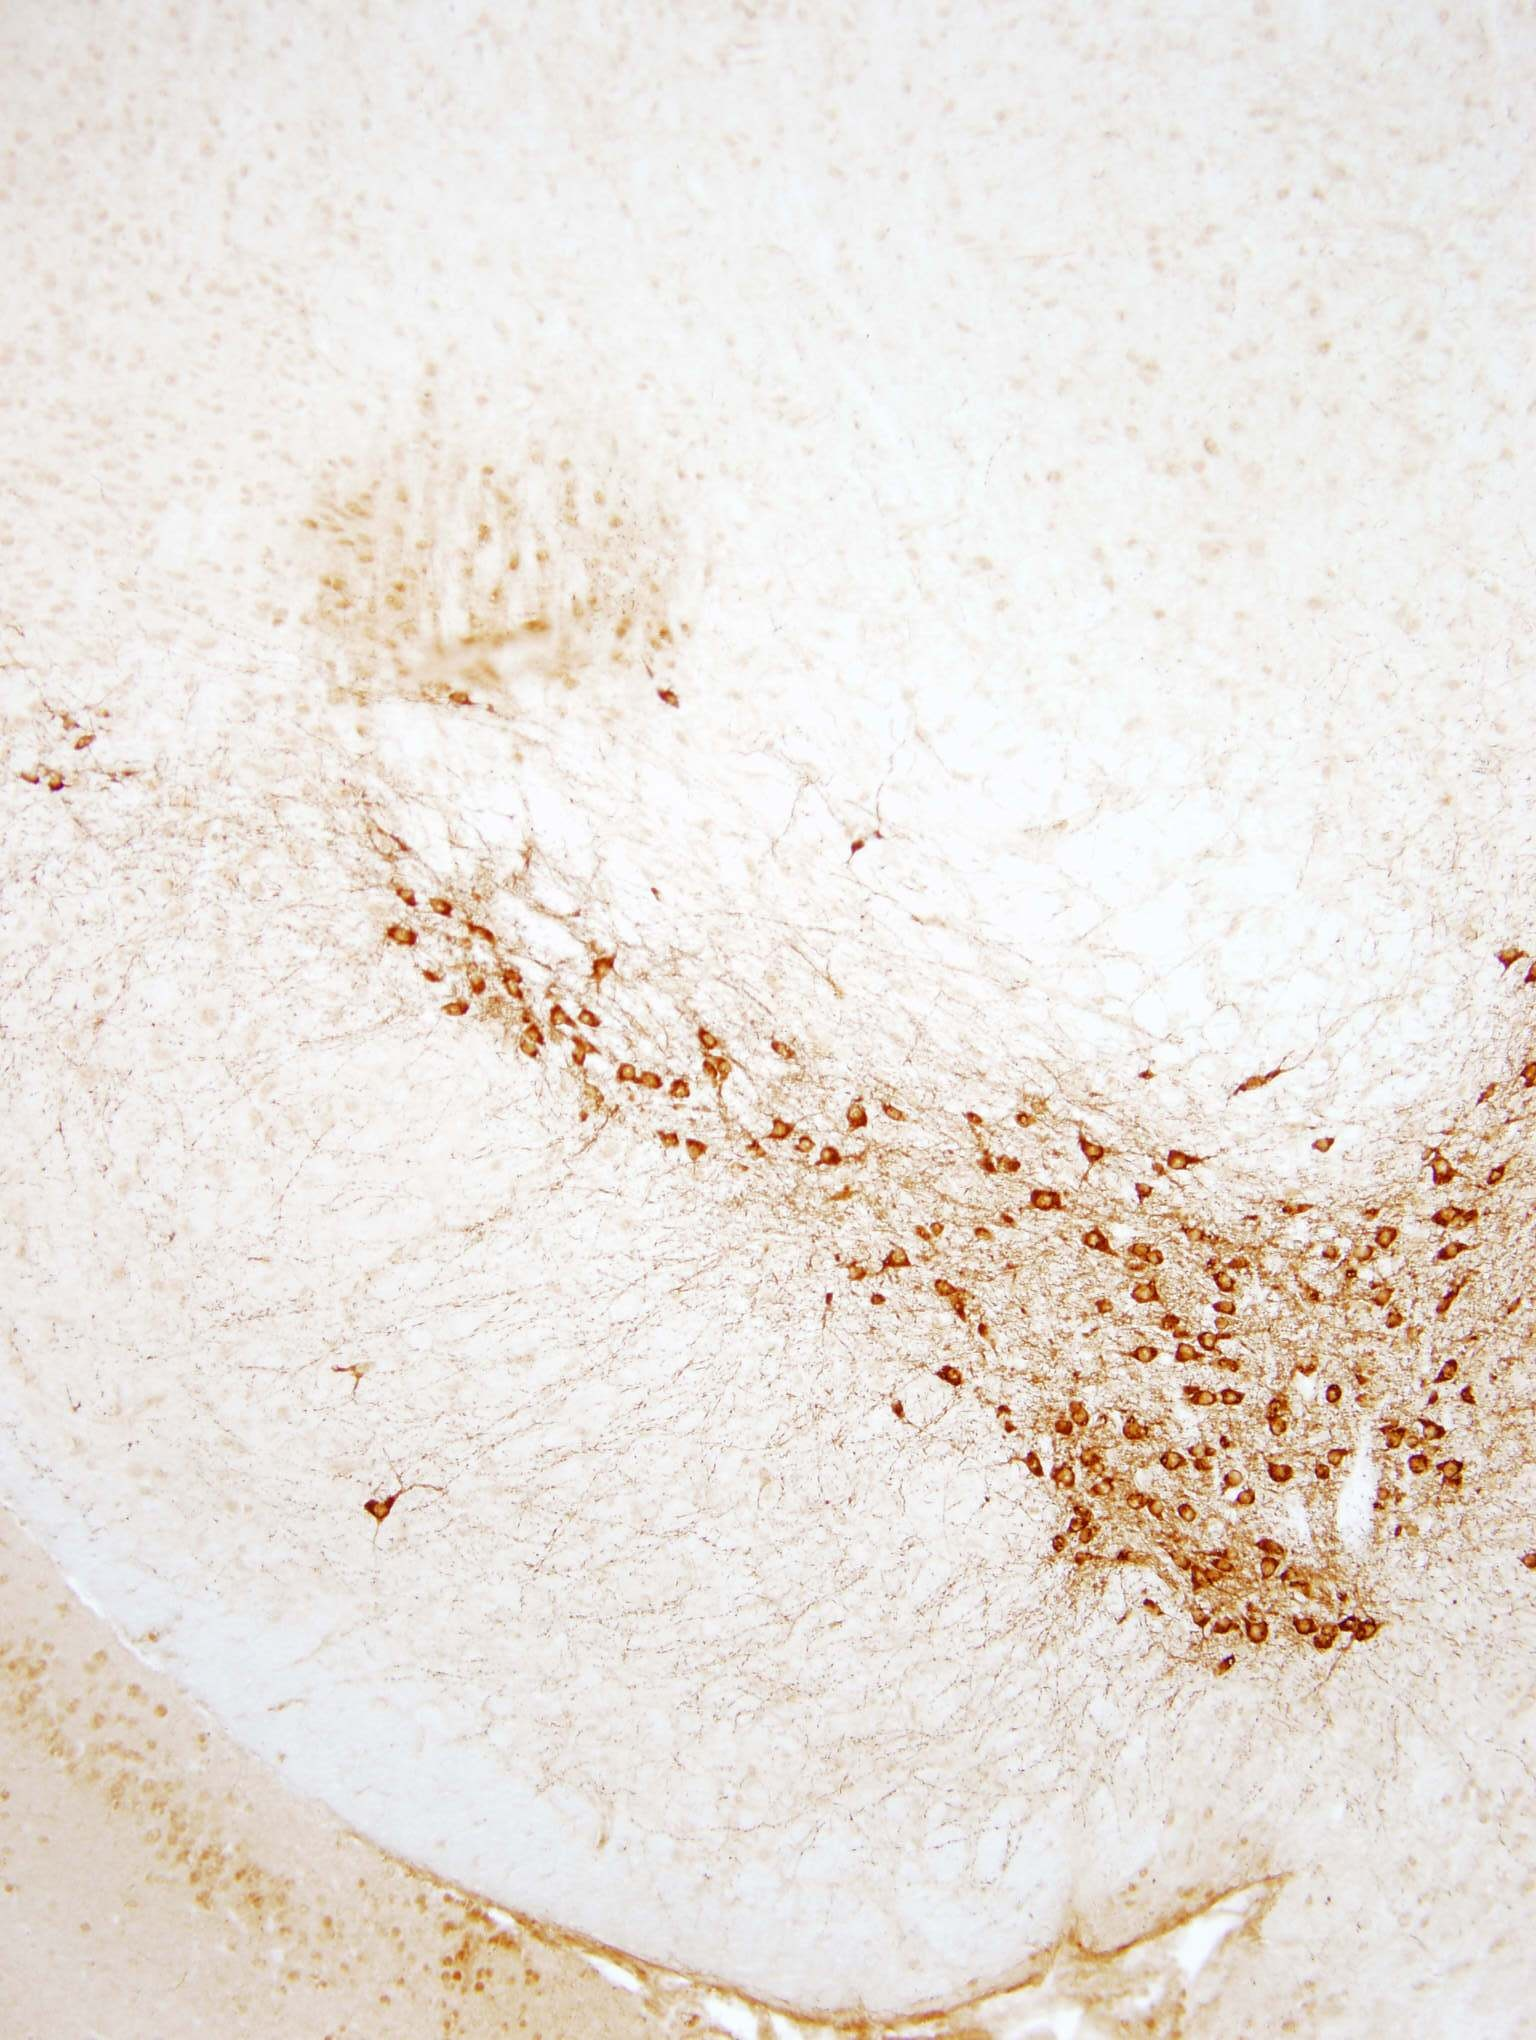neuron: (44, 766, 92, 814), (381, 914, 428, 963), (381, 876, 429, 922), (1184, 1380, 1221, 1418), (1417, 1413, 1454, 1450), (1073, 1130, 1108, 1168), (1117, 1414, 1154, 1450), (1167, 1142, 1204, 1177), (1167, 1342, 1204, 1377), (1217, 1380, 1252, 1418), (1242, 1614, 1278, 1651), (1430, 1355, 1465, 1392), (1433, 1293, 1468, 1330), (1436, 1235, 1471, 1272), (415, 960, 452, 995), (436, 992, 473, 1027), (460, 969, 495, 1006), (465, 919, 502, 955), (570, 998, 607, 1034), (632, 1068, 670, 1103), (678, 1135, 715, 1171), (783, 1132, 820, 1168), (881, 1093, 916, 1130), (933, 1356, 970, 1392), (1028, 1182, 1063, 1218), (1046, 1459, 1081, 1495), (1078, 1227, 1113, 1263), (1123, 1180, 1158, 1216), (1128, 1342, 1163, 1377), (1129, 1277, 1165, 1313), (1262, 1463, 1297, 1498), (1404, 1455, 1439, 1490), (1426, 1156, 1462, 1192), (1428, 1203, 1463, 1239), (1434, 1450, 1470, 1485), (428, 892, 463, 927), (445, 685, 481, 721), (544, 1000, 579, 1035), (573, 1021, 608, 1056), (586, 953, 621, 989), (650, 684, 686, 719), (663, 1076, 699, 1111), (68, 722, 103, 758), (691, 1018, 726, 1053), (762, 1111, 797, 1147), (763, 1034, 799, 1069), (812, 1139, 847, 1174), (839, 1101, 874, 1137), (879, 1243, 915, 1279), (923, 1268, 958, 1303), (1015, 1110, 1039, 1134), (1020, 1448, 1044, 1472), (1046, 1532, 1070, 1556), (1054, 1418, 1078, 1442), (1070, 1401, 1094, 1426), (1071, 1551, 1096, 1576), (1075, 1522, 1099, 1547), (1078, 1448, 1102, 1472), (1091, 1476, 1115, 1500), (1096, 1293, 1120, 1318), (1117, 1547, 1141, 1571), (1125, 1490, 1149, 1514), (1142, 1600, 1167, 1624), (1146, 1497, 1170, 1521), (1147, 1248, 1171, 1272), (1162, 1450, 1186, 1474), (1178, 1501, 1202, 1526), (1186, 1608, 1210, 1632), (1192, 1566, 1217, 1590), (1196, 1330, 1220, 1355), (1205, 1558, 1229, 1582), (1210, 1314, 1234, 1338), (1213, 1271, 1238, 1295), (1213, 1297, 1238, 1321), (1221, 1464, 1246, 1488), (1228, 1248, 1252, 1272), (1234, 1488, 1258, 1513), (1257, 1556, 1281, 1580), (1258, 1532, 1283, 1556), (1267, 1392, 1291, 1416), (1267, 1416, 1291, 1440), (1281, 1567, 1305, 1592), (1294, 1198, 1318, 1222), (1309, 1461, 1333, 1485), (1313, 1135, 1338, 1159), (1318, 1247, 1342, 1271), (1321, 1385, 1346, 1409), (1326, 1445, 1350, 1469), (1334, 1613, 1359, 1637), (1355, 1622, 1379, 1647), (1365, 1276, 1389, 1300), (1370, 1479, 1394, 1503), (1375, 1226, 1399, 1250), (1384, 1308, 1409, 1332), (1418, 1139, 1442, 1163), (1459, 1209, 1483, 1234), (1459, 1385, 1483, 1409), (1476, 1077, 1501, 1101), (518, 1040, 542, 1064), (526, 1024, 550, 1048), (568, 1048, 592, 1072), (616, 1060, 641, 1084), (658, 1126, 682, 1150), (695, 1060, 720, 1084), (713, 1056, 737, 1080), (845, 1259, 870, 1284), (866, 1293, 891, 1318), (928, 1218, 952, 1242), (950, 1295, 975, 1319), (971, 1222, 995, 1247), (1075, 1500, 1099, 1522), (1128, 1237, 1150, 1261), (1170, 1550, 1192, 1574), (1183, 1224, 1205, 1248), (1191, 1438, 1213, 1463), (1212, 1613, 1236, 1635), (1291, 1614, 1313, 1638), (1354, 1245, 1376, 1269), (1362, 1201, 1384, 1226), (1375, 1289, 1397, 1313), (1484, 1163, 1509, 1185), (515, 1003, 537, 1027), (962, 1106, 984, 1130)
